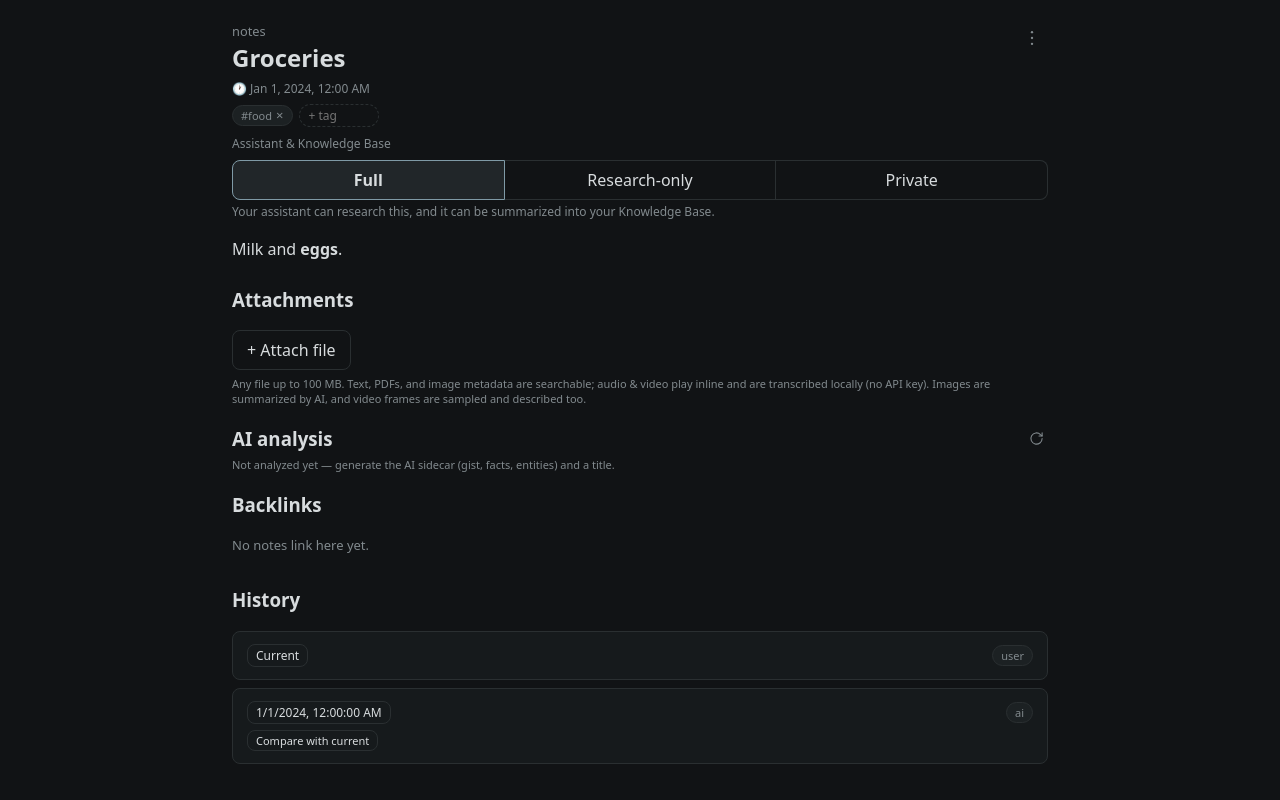
Scenario: NotePage › loads version history and opens a diff for a past version
Expected: the button "Current" is shown, 247,644 -> 308,667
Click the button "Compare with current". click: (313, 740)
box: 247,730 -> 378,751
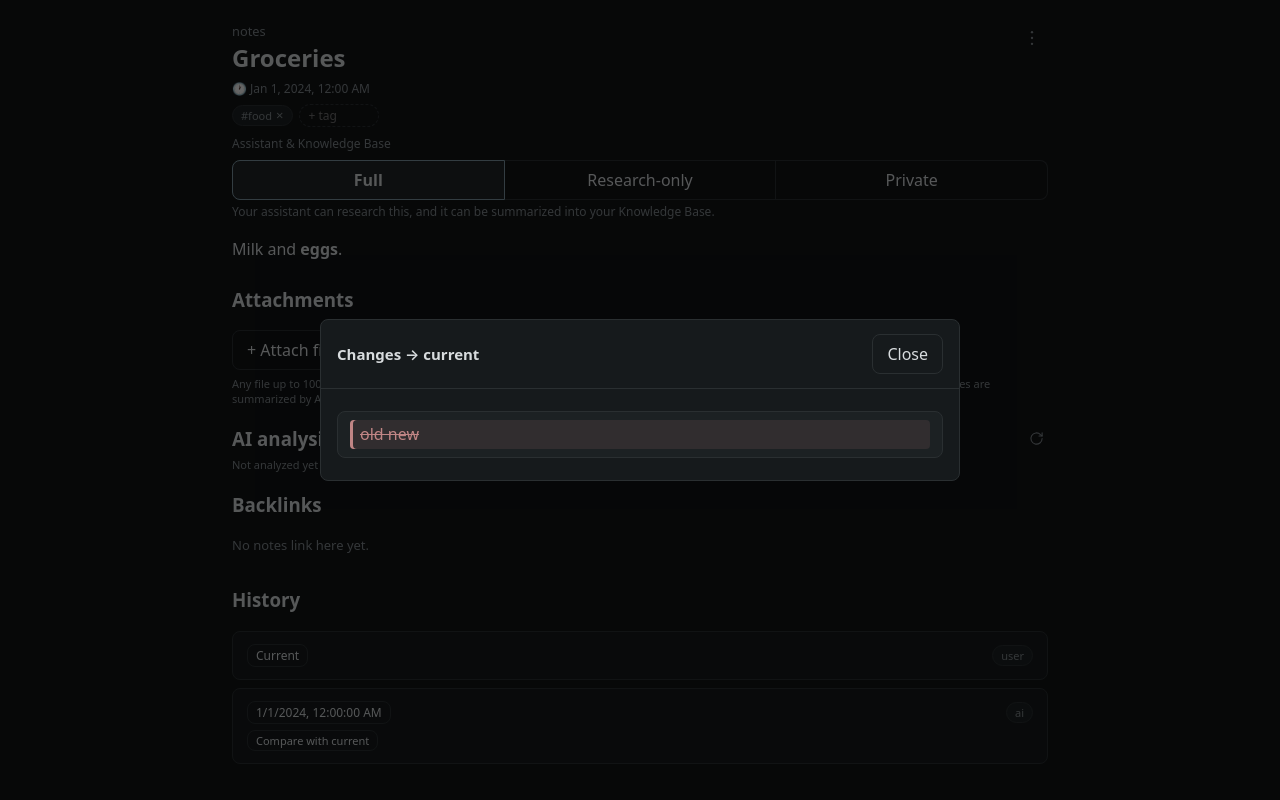
Expected: the text "Changes → current" is shown, 337,344 -> 479,364
